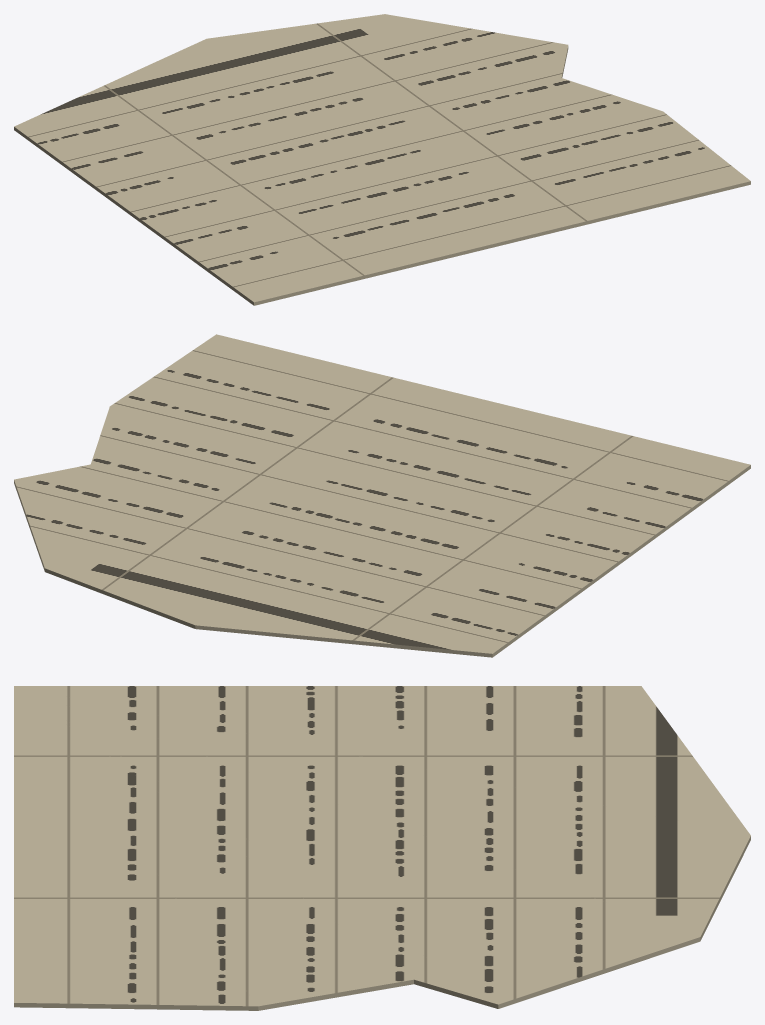
The model's file is Motel_Work_Order_Fragment.fbx.
The picture shows the model from 3 angles, top to bottom: view 1: azimuth 30°, elevation 25°; view 2: azimuth 150°, elevation 25°; view 3: azimuth 270°, elevation 25°; orthographic projection. The views are drawn at different scales.
Visible parts, largest first — view 1: Motel_Work_Order_Fragment; view 2: Motel_Work_Order_Fragment; view 3: Motel_Work_Order_Fragment.
Part boxes in pixels (<box>): Motel_Work_Order_Fragment: <box>14,14,750,305</box>; Motel_Work_Order_Fragment: <box>14,334,750,657</box>; Motel_Work_Order_Fragment: <box>14,686,750,1010</box>.
Bounding box in the file's own units: 0.18 × 0.0012 × 0.175.
